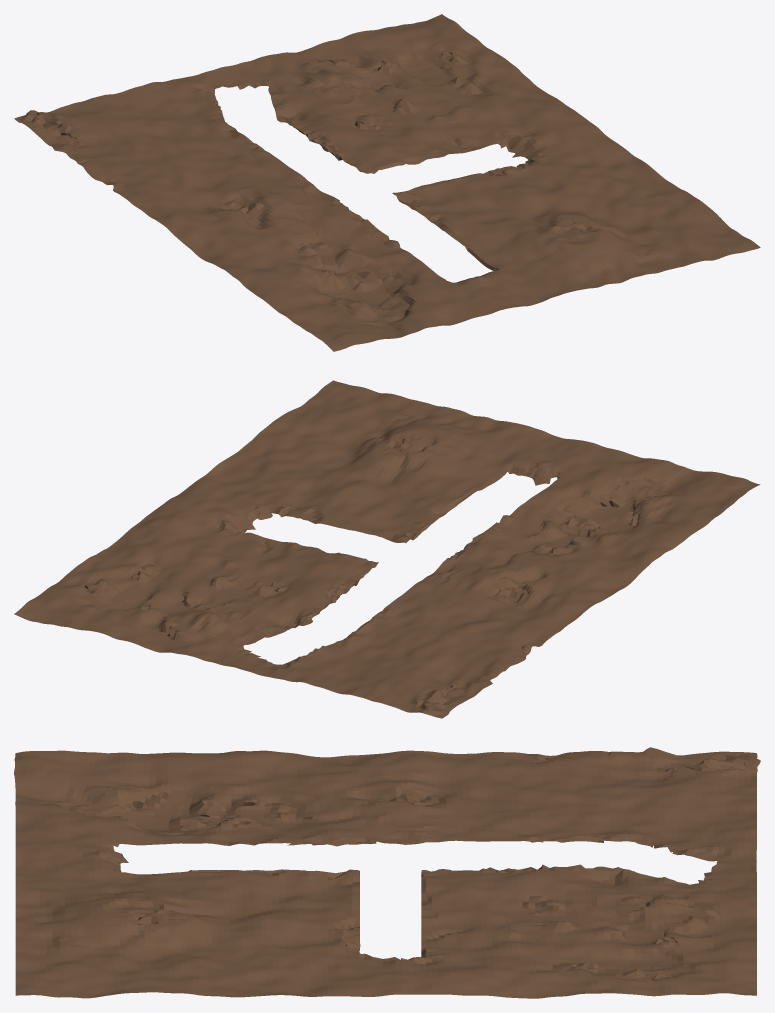
File: MuddyGroundTrench.fbx
The picture shows the model from 3 angles, top to bottom: view 1: azimuth 30°, elevation 25°; view 2: azimuth 150°, elevation 25°; view 3: azimuth 270°, elevation 25°; orthographic projection. The views are drawn at different scales.
Parts seen in each view (by area): view 1: Trench Ground Mud; view 2: Trench Ground Mud; view 3: Trench Ground Mud.
Boxes of the visible parts, box(x1,y1,x2,y2) form: Trench Ground Mud: box(14, 14, 760, 351); Trench Ground Mud: box(14, 380, 760, 718); Trench Ground Mud: box(14, 747, 760, 998).
Bounding box in the file's own units: 9370 × 470 × 12055.
